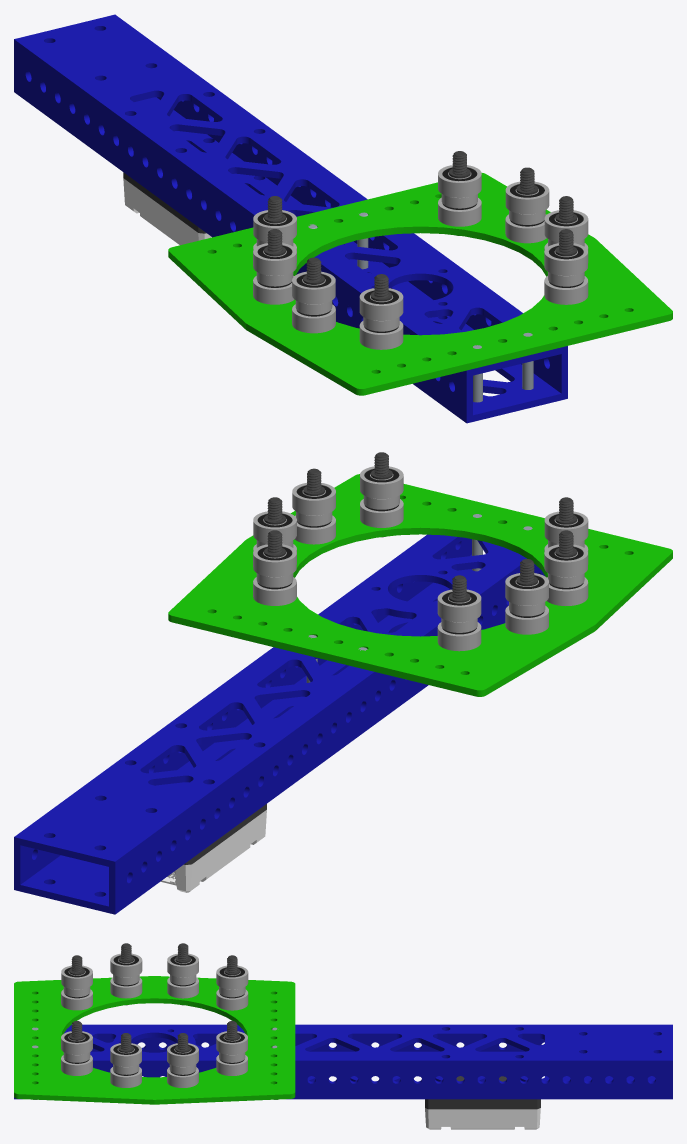
3 views of the same model, one above another, from view 1: azimuth 30°, elevation 25°; view 2: azimuth 150°, elevation 25°; view 3: azimuth 270°, elevation 25° (orthographic). The views are drawn at different scales.
Parts seen in each view (by area): view 1: arm bar pocketed, Mounting Plate - Turret, WCP-0212_0_250_radial_bearing (×14), SPARK MAX REV-11-2158 (20); view 2: arm bar pocketed, Mounting Plate - Turret, WCP-0212_0_250_radial_bearing (×14), SPARK MAX REV-11-2158 (20); view 3: arm bar pocketed, Mounting Plate - Turret, WCP-0212_0_250_radial_bearing (×16), SPARK MAX REV-11-2158 (20), SPARK MAX REV-11-2158 (15).
Boxes of the visible parts, left/top/right/bottom form: arm bar pocketed: left=14, top=14, right=567, bottom=423; Mounting Plate - Turret: left=168, top=173, right=672, bottom=395; WCP-0212_0_250_radial_bearing (×14): left=253, top=165, right=588, bottom=349; SPARK MAX REV-11-2158 (20): left=123, top=178, right=211, bottom=245; arm bar pocketed: left=14, top=534, right=545, bottom=914; Mounting Plate - Turret: left=168, top=474, right=672, bottom=696; WCP-0212_0_250_radial_bearing (×14): left=253, top=466, right=588, bottom=651; SPARK MAX REV-11-2158 (20): left=160, top=810, right=266, bottom=892; arm bar pocketed: left=14, top=1024, right=672, bottom=1099; Mounting Plate - Turret: left=14, top=976, right=295, bottom=1104; WCP-0212_0_250_radial_bearing (×16): left=61, top=953, right=248, bottom=1087; SPARK MAX REV-11-2158 (20): left=425, top=1108, right=540, bottom=1129; SPARK MAX REV-11-2158 (15): left=425, top=1076, right=540, bottom=1109.
Size of the model in its own units: 0.1752 by 0.0853 by 0.3937.
